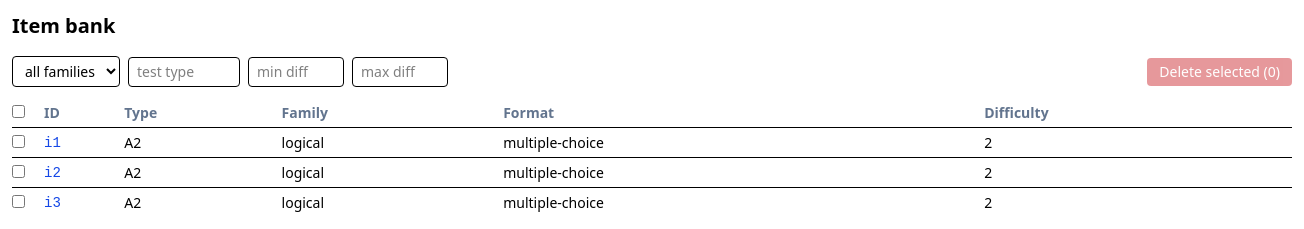
it: Items bulk delete › select-all selects every row and deletes them after confirmation
Expected: the link "i1" is shown, [44,135,61,151]
Click the checkbox named "select all".
click(18, 112)  # box [12,105,25,118]
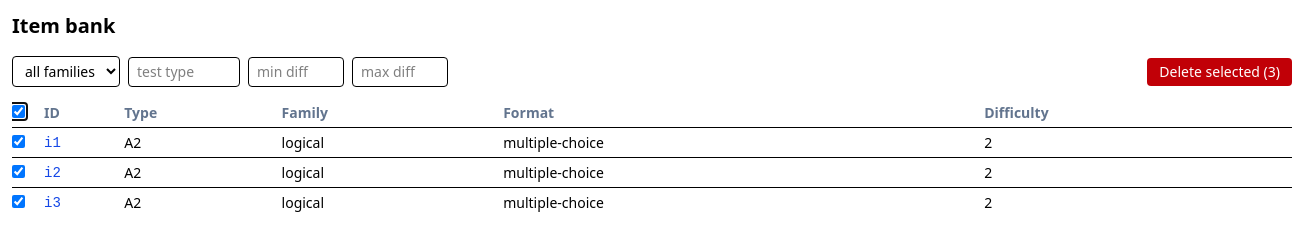
Click the button "Delete selected (3)".
click(1220, 72)  # box [1147,58,1292,86]
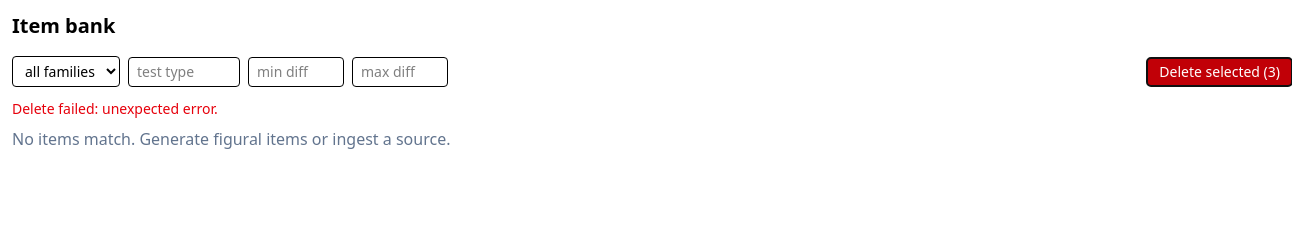
Expected: the text "No items match. Generate figural items or ingest a source." is shown, [12,128,450,150]
